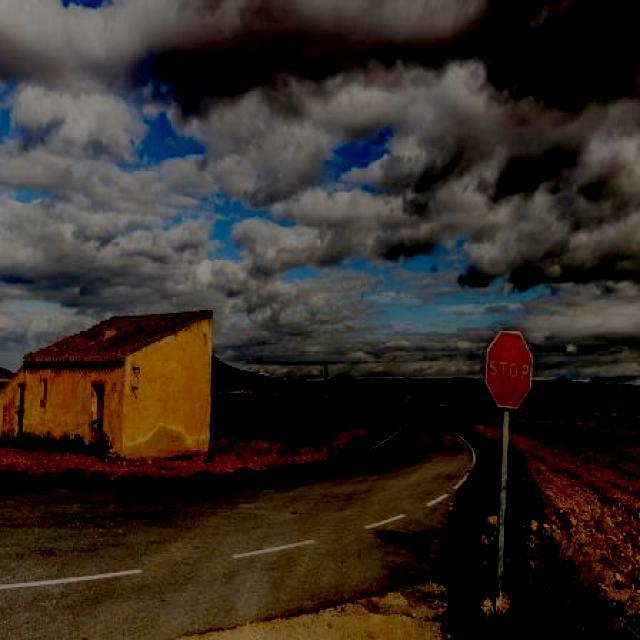stop_sign: (487, 328, 532, 408)
